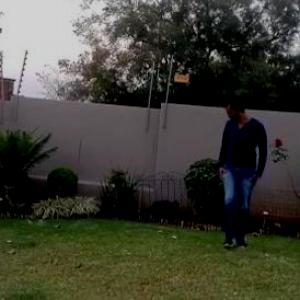follow: (214, 77, 272, 267)
